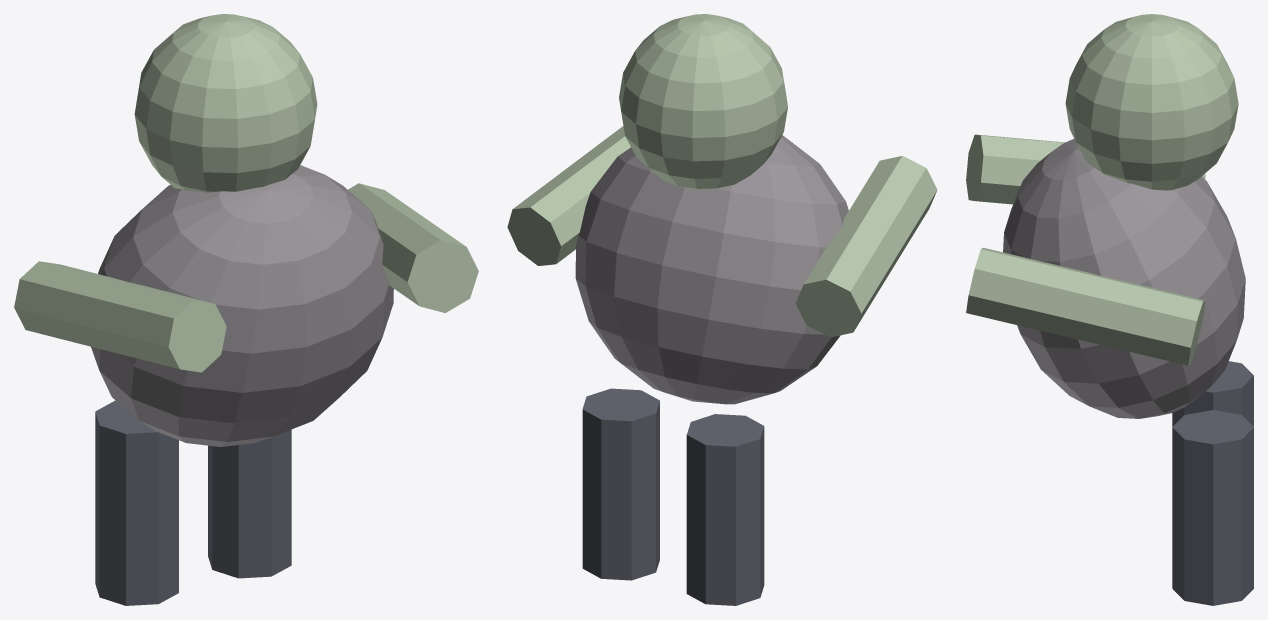
The model's file is enemy.glb.
3 views of the same model, side by side, from view 1: azimuth 30°, elevation 25°; view 2: azimuth 150°, elevation 25°; view 3: azimuth 270°, elevation 25° (orthographic). The views are drawn at different scales.
Visible parts, largest first — view 1: enemy; view 2: enemy; view 3: enemy.
Boxes of the visible parts, x1=… form: enemy: x1=14, y1=14, x2=478, y2=605; enemy: x1=507, y1=14, x2=937, y2=605; enemy: x1=966, y1=14, x2=1253, y2=605.
Bounding box in the file's own units: 0.8148 × 1.17 × 0.5653.
